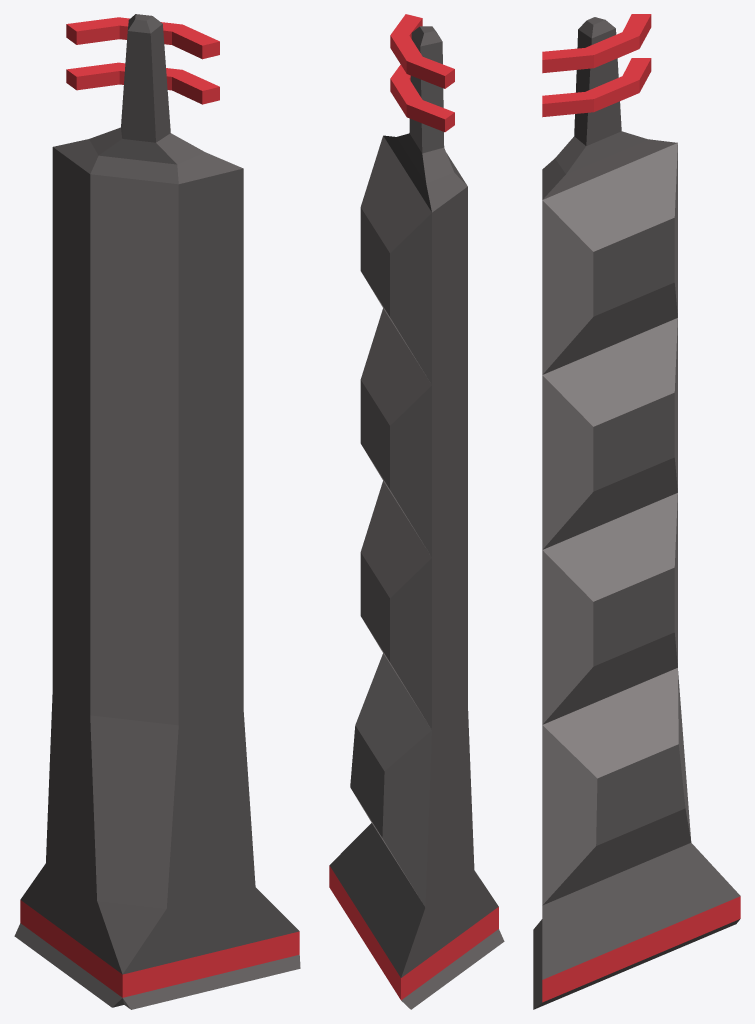
File: scifi-barrier-large-corner-electric.fbx
The picture shows the model from 3 angles, left to right: view 1: azimuth 30°, elevation 25°; view 2: azimuth 150°, elevation 25°; view 3: azimuth 270°, elevation 25°; orthographic projection. The views are drawn at different scales.
Parts seen in each view (by area): view 1: scifi-barrier-large-corner-electric; view 2: scifi-barrier-large-corner-electric; view 3: scifi-barrier-large-corner-electric.
Part boxes in pixels (bbox=[...]): scifi-barrier-large-corner-electric: bbox=[14, 14, 300, 1009]; scifi-barrier-large-corner-electric: bbox=[329, 14, 504, 1009]; scifi-barrier-large-corner-electric: bbox=[533, 14, 740, 1009].
Size of the model in its own units: 0.858 by 4.24 by 0.858.
